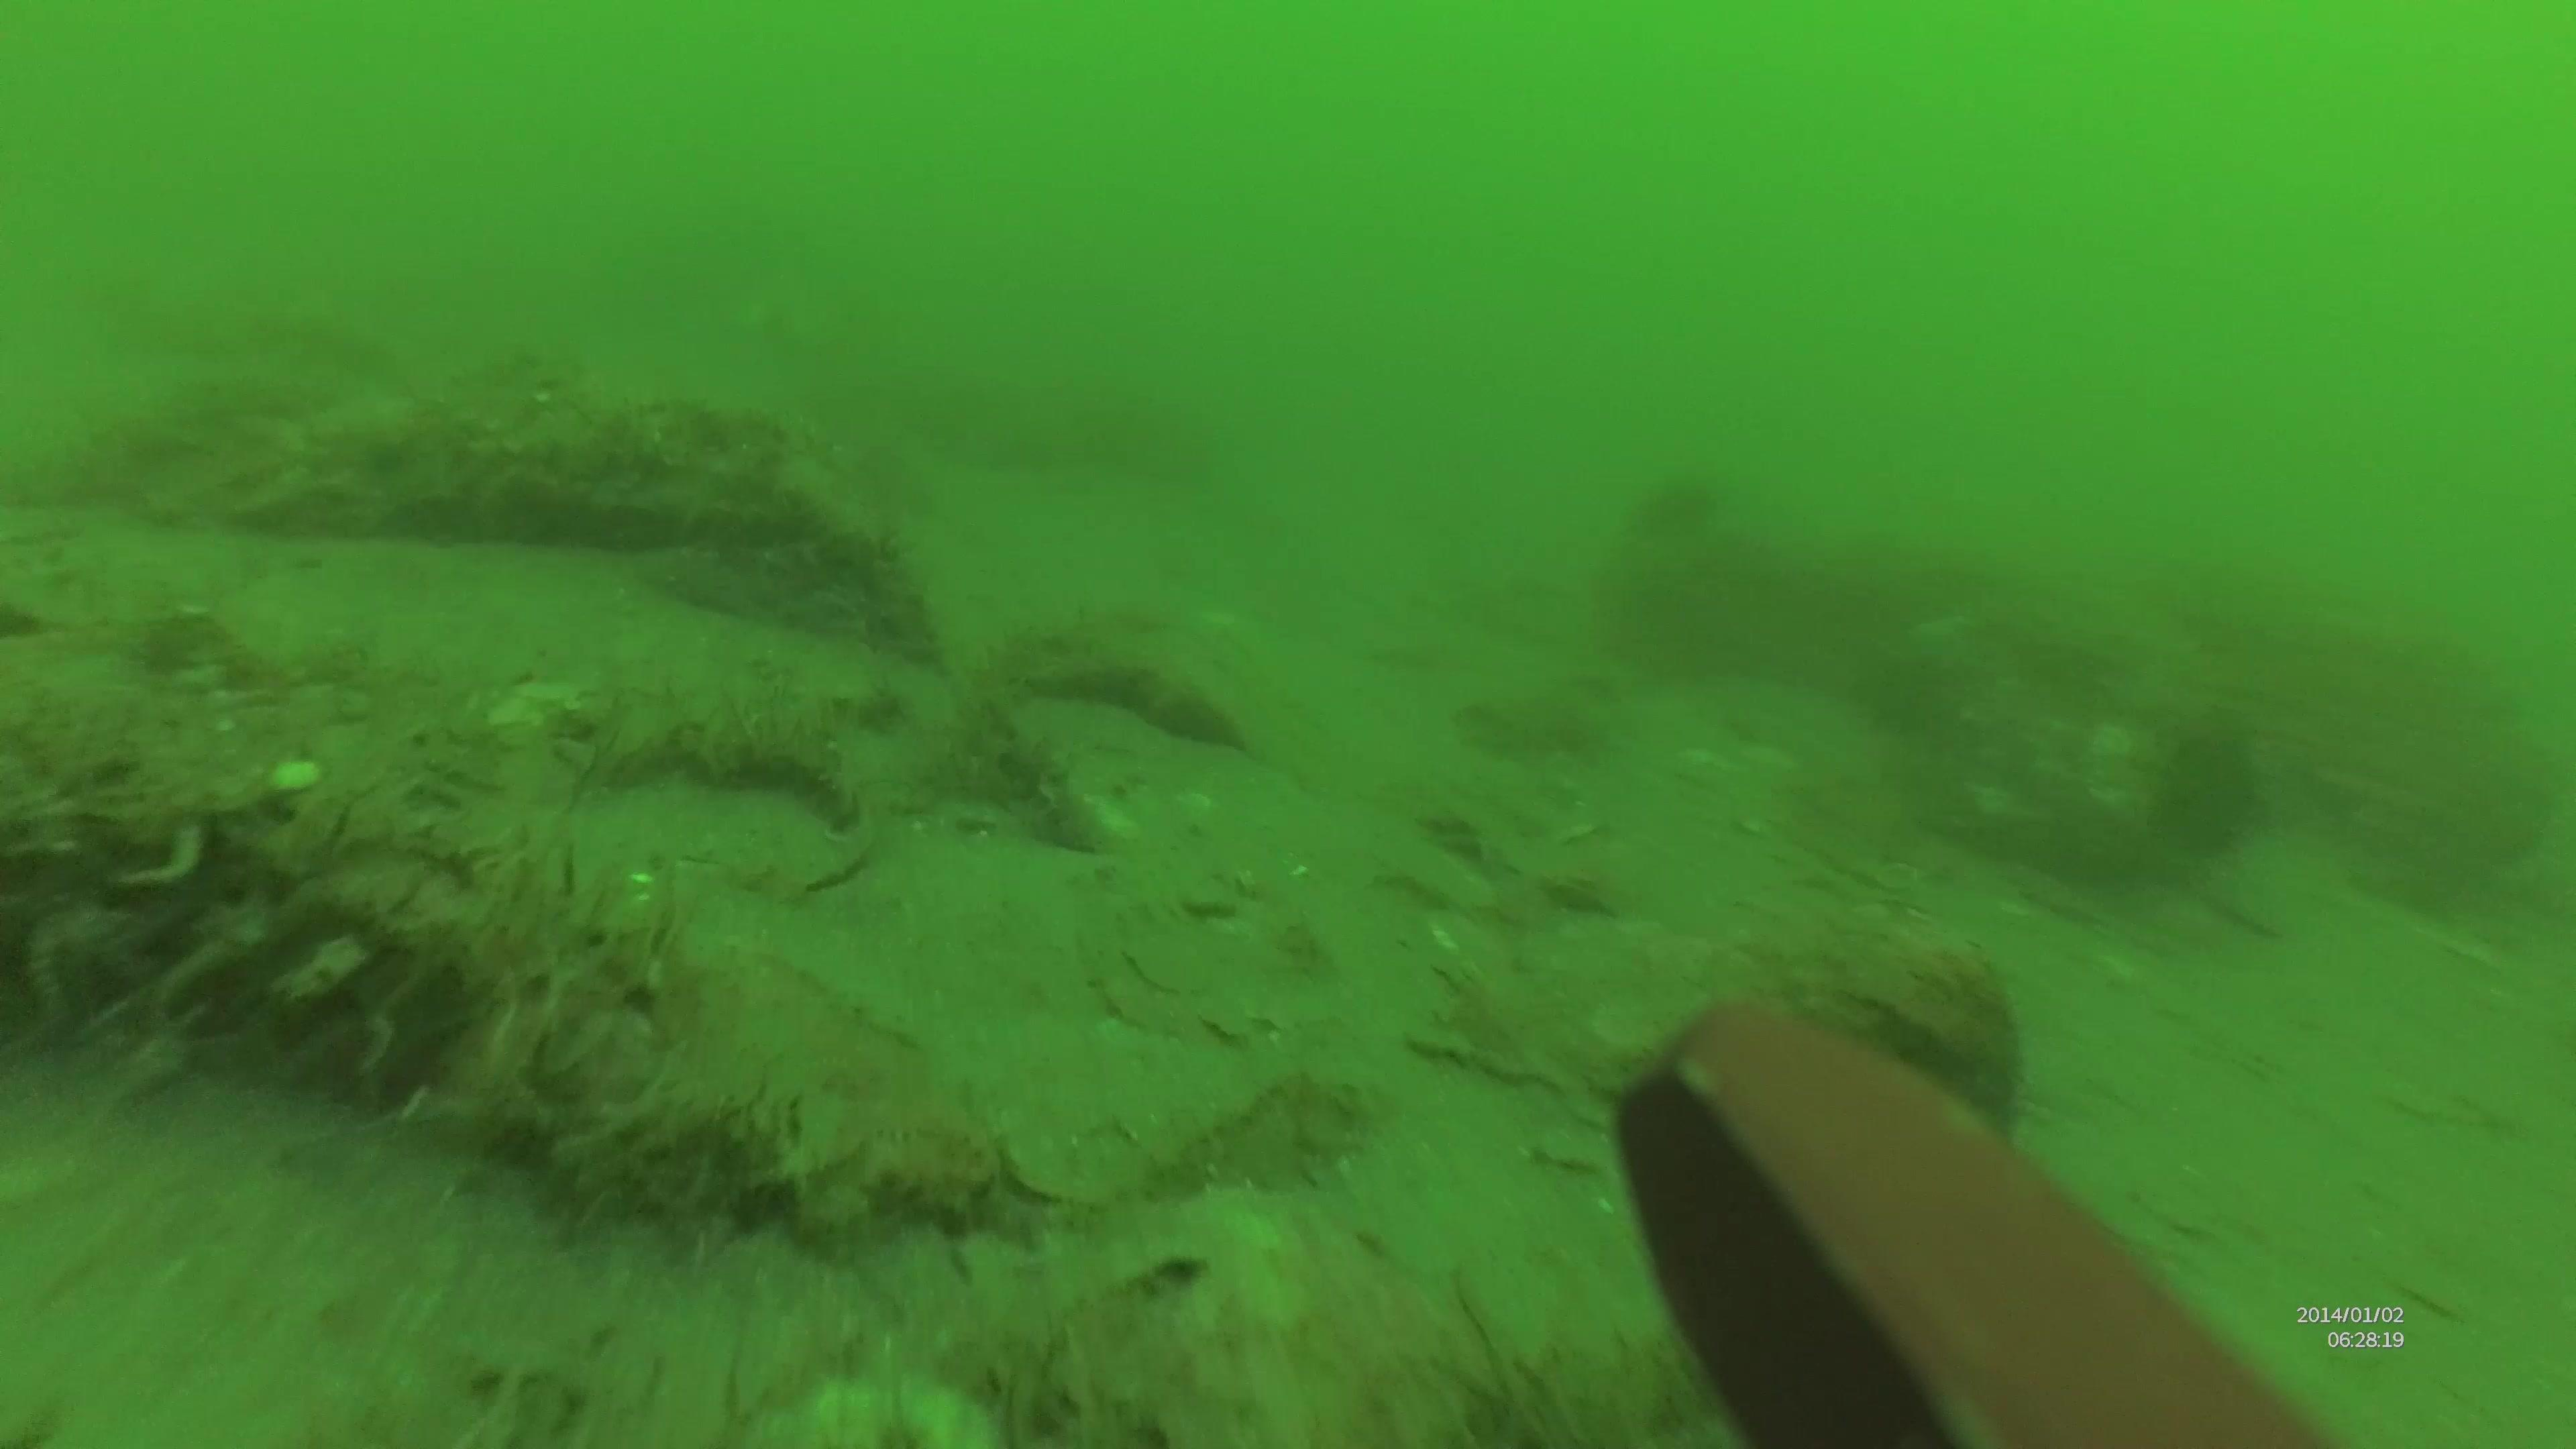holothurian: (557, 679, 869, 844), (1005, 603, 1238, 747), (916, 704, 1106, 865)
